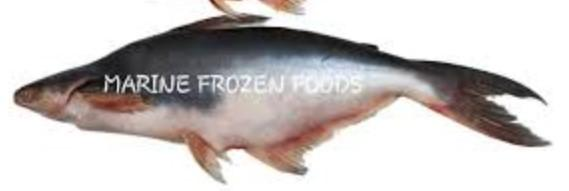Pangasius: (11, 1, 556, 165)
